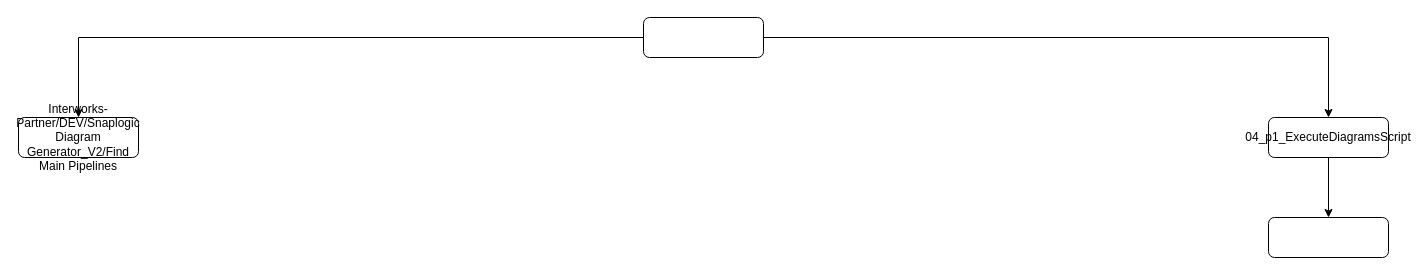
This 1428x275 diagram has some shape labels left out. The centre of each missing label's shape, as x and y in pixels:
03_p2_ProjectDiagramsPython: [703,37]
05_p1_GitIntegration: [1328,237]
